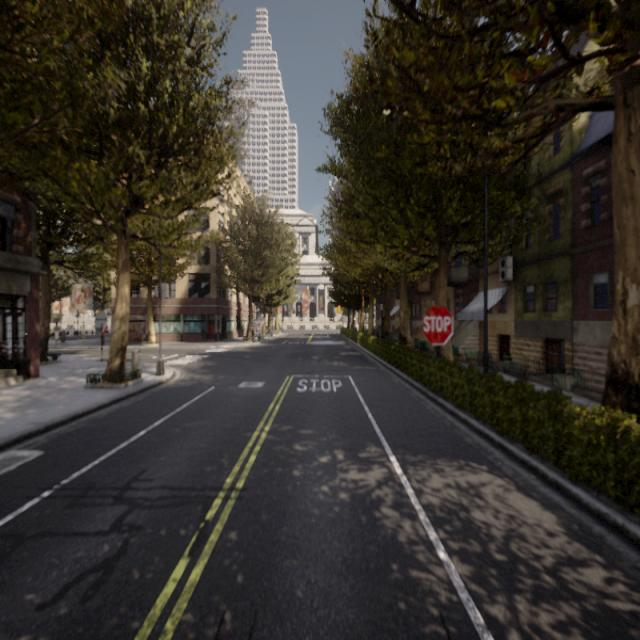stop sign: (420, 302, 454, 347)
